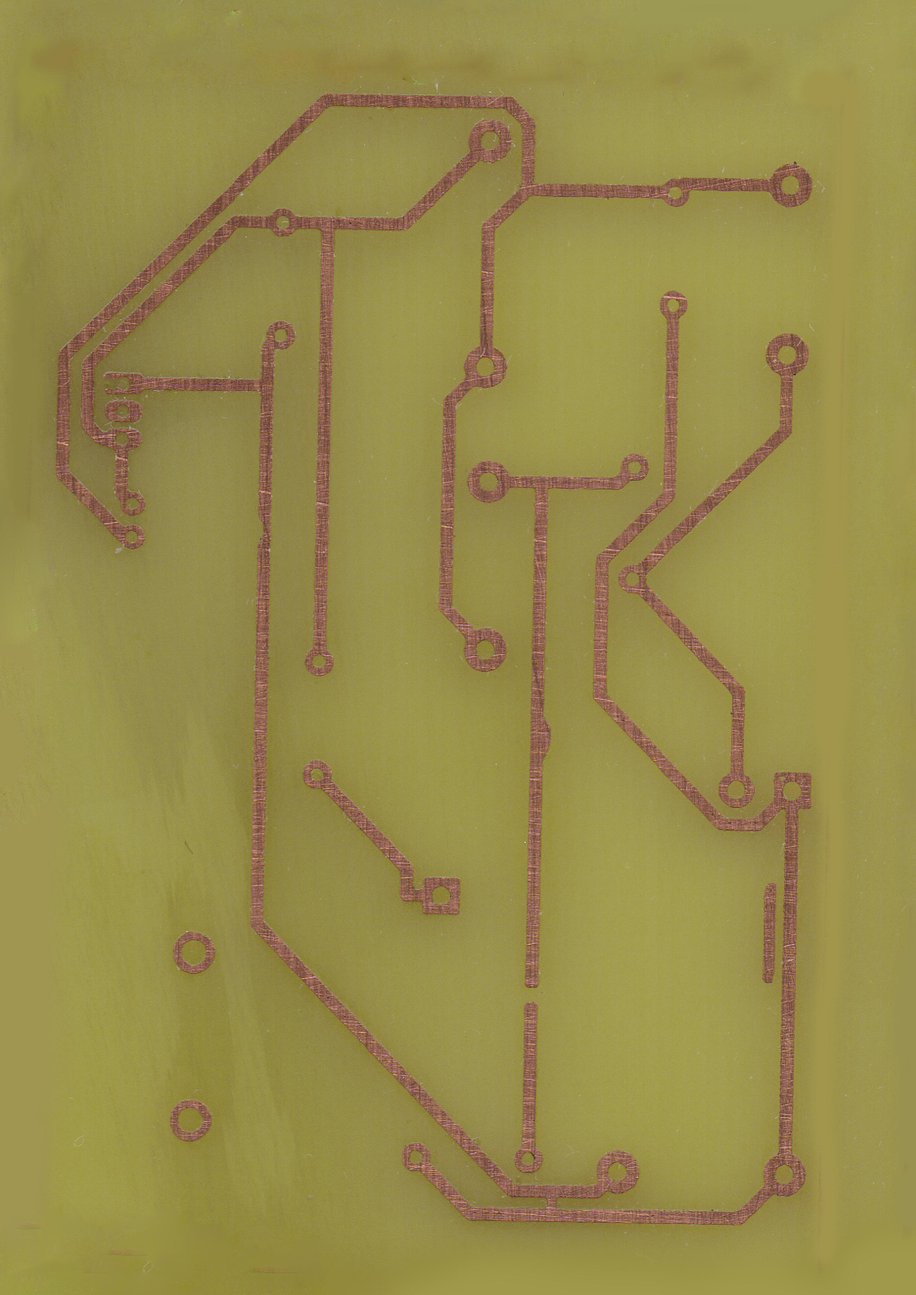mouse_bite: (252, 509, 276, 551)
open_circuit: (519, 978, 542, 1012)
short: (542, 1181, 566, 1227)
spur: (525, 712, 556, 763)
spurious_copper: (760, 881, 779, 987)
